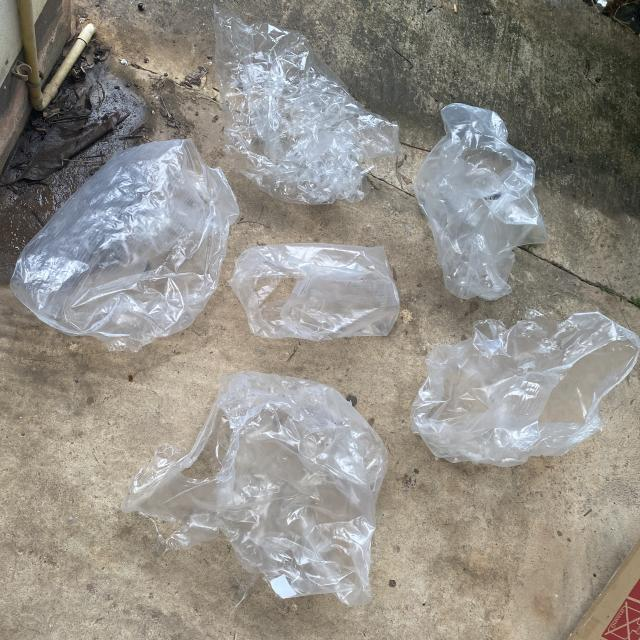Single-layer Plastic: (121, 371, 388, 606), (10, 139, 239, 351), (214, 6, 401, 205), (411, 310, 640, 466), (414, 104, 549, 300), (229, 244, 400, 341)
